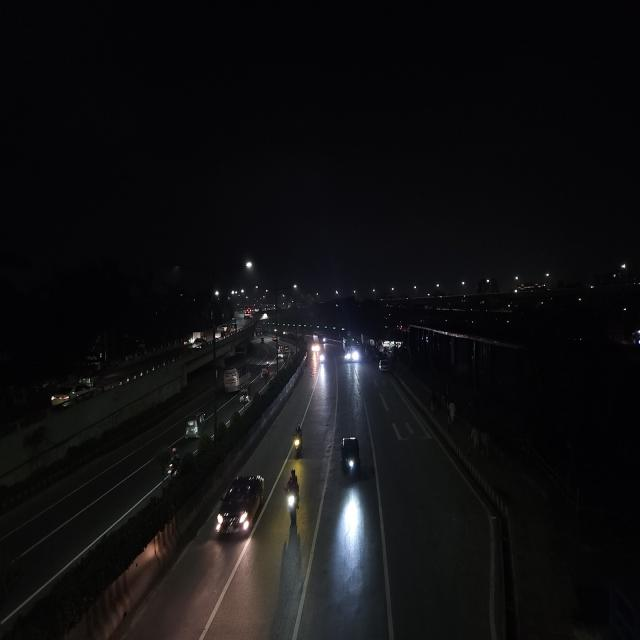bus: (222, 357, 250, 392), (343, 337, 358, 362)
car: (211, 469, 268, 545), (50, 388, 73, 409), (378, 358, 391, 376), (194, 338, 206, 350), (214, 328, 222, 341)
cng: (337, 433, 363, 484), (162, 444, 182, 481), (182, 412, 202, 440), (260, 367, 270, 381), (277, 347, 284, 360), (284, 344, 289, 354)
motorcycle: (282, 466, 304, 526), (162, 445, 183, 481), (289, 424, 305, 460)
